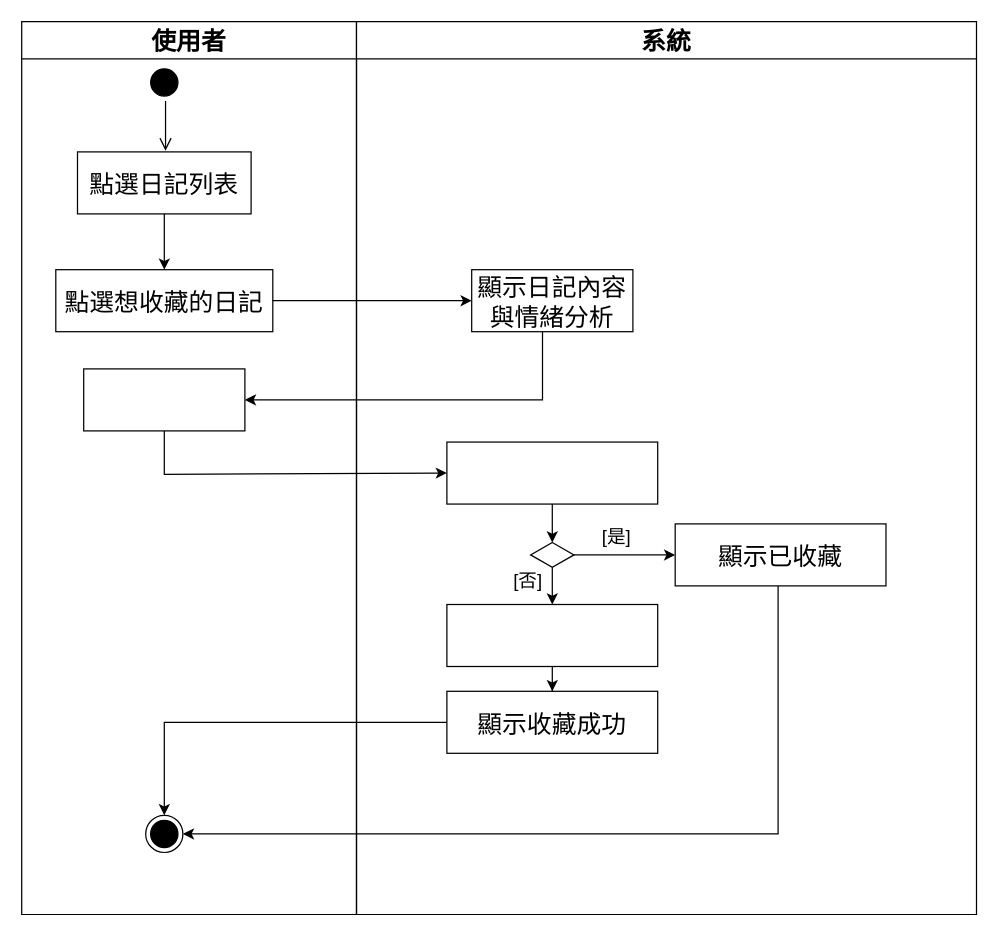
This 998x936 diagram has some shape labels left out. Here are the shapes that lost their labels. From the top down, the centre of each, then its label:
At (x=163, y=399): "點擊收藏按鈕".
At (x=552, y=472): "查詢使用者 收藏清單是否收藏".
At (x=552, y=634): "新增收藏".
